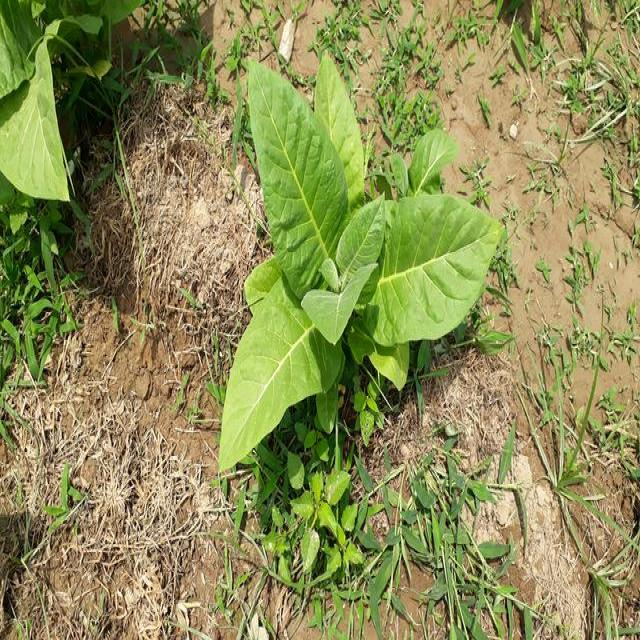crop: (216, 47, 504, 469)
